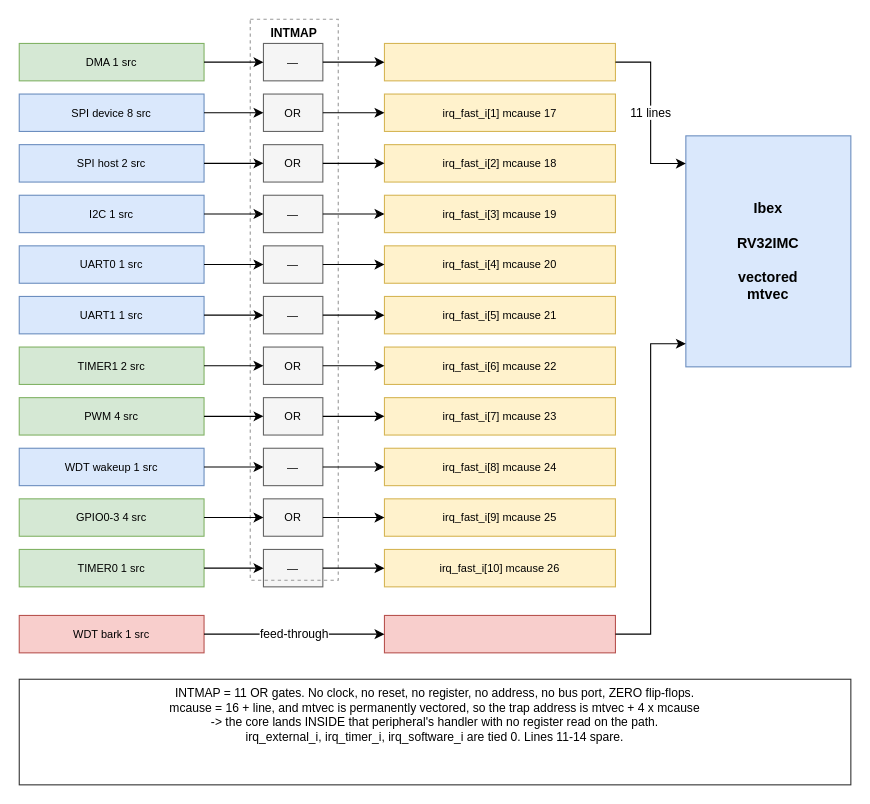
Some shapes in this 870 by 804 pixel diagram are drawn without their labels. The centre of each missing label's shape, as x and y in pixels:
irq_fast_i[0] mcause 16: the point at 499,61
irq_nm_i mcause 31: the point at 499,633
